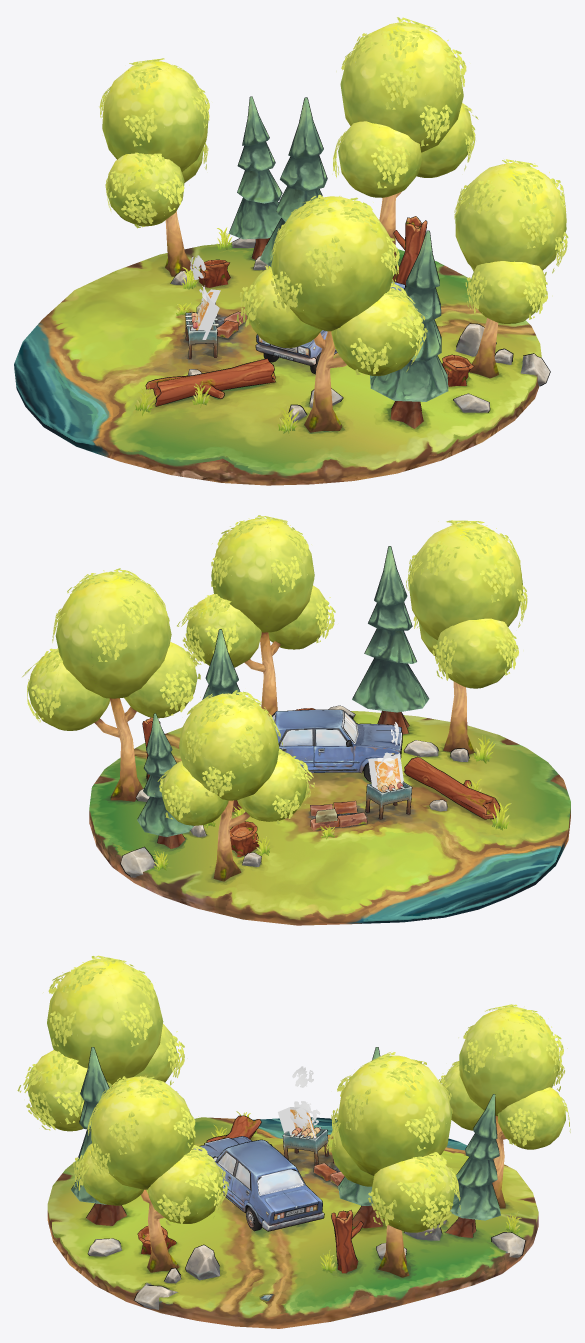
The picture shows the model from 3 angles, top to bottom: view 1: azimuth 30°, elevation 25°; view 2: azimuth 150°, elevation 25°; view 3: azimuth 270°, elevation 25°; orthographic projection. The views are drawn at different scales.
Visible parts, largest first — view 1: Soil, Circle.008, Circle.011, Circle.005, Circle, Circle.007, Circle.010, Circle.001, Circle.003, Car, Circle.004, Barbecue (+5 smaller); view 2: Soil, Circle.011, Circle.008, Circle.005, Circle, Circle.007, Car, Circle.010, Circle.003, Circle.001, Plane, Barbecue (+3 smaller); view 3: Soil, Circle.011, Circle.005, Circle.008, Circle, Car, Circle.010, Circle.007, Circle.004, Circle.001, Barbecue, Cube.008 (+6 smaller).
Part boxes in pixels (bbox=[...]): Soil: bbox=[14, 243, 541, 485]; Circle.008: bbox=[236, 194, 427, 432]; Circle.011: bbox=[332, 17, 478, 268]; Circle.005: bbox=[454, 159, 568, 378]; Circle: bbox=[99, 58, 209, 276]; Circle.007: bbox=[370, 230, 448, 428]; Circle.010: bbox=[228, 96, 282, 259]; Circle.001: bbox=[259, 97, 327, 266]; Circle.003: bbox=[145, 358, 275, 406]; Car: bbox=[255, 281, 405, 374]; Circle.004: bbox=[392, 216, 427, 285]; Barbecue: bbox=[185, 312, 218, 359]; Soil: bbox=[89, 711, 570, 925]; Circle.011: bbox=[22, 568, 200, 801]; Circle.008: bbox=[406, 520, 527, 754]; Circle.005: bbox=[177, 515, 335, 716]; Circle: bbox=[154, 690, 314, 881]; Circle.007: bbox=[352, 546, 429, 734]; Car: bbox=[272, 709, 402, 782]; Circle.010: bbox=[137, 713, 193, 848]; Circle.003: bbox=[403, 756, 500, 819]; Circle.001: bbox=[202, 629, 241, 811]; Plane: bbox=[310, 801, 367, 830]; Barbecue: bbox=[365, 781, 412, 819]; Soil: bbox=[47, 1117, 538, 1328]; Circle.011: bbox=[326, 1052, 460, 1277]; Circle.005: bbox=[73, 1075, 229, 1272]; Circle.008: bbox=[17, 955, 187, 1131]; Circle: bbox=[438, 1004, 570, 1208]; Car: bbox=[194, 1136, 324, 1231]; Circle.010: bbox=[445, 1094, 500, 1237]; Circle.007: bbox=[71, 1047, 126, 1225]; Circle.004: bbox=[331, 1210, 363, 1273]; Circle.001: bbox=[338, 1047, 384, 1228]; Barbecue: bbox=[282, 1126, 329, 1165]; Cube.008: bbox=[185, 1244, 219, 1280].
Size of the model in its own units: 11.94 by 6.2 by 12.5.
Materials: 13 (12 with a texture image).
